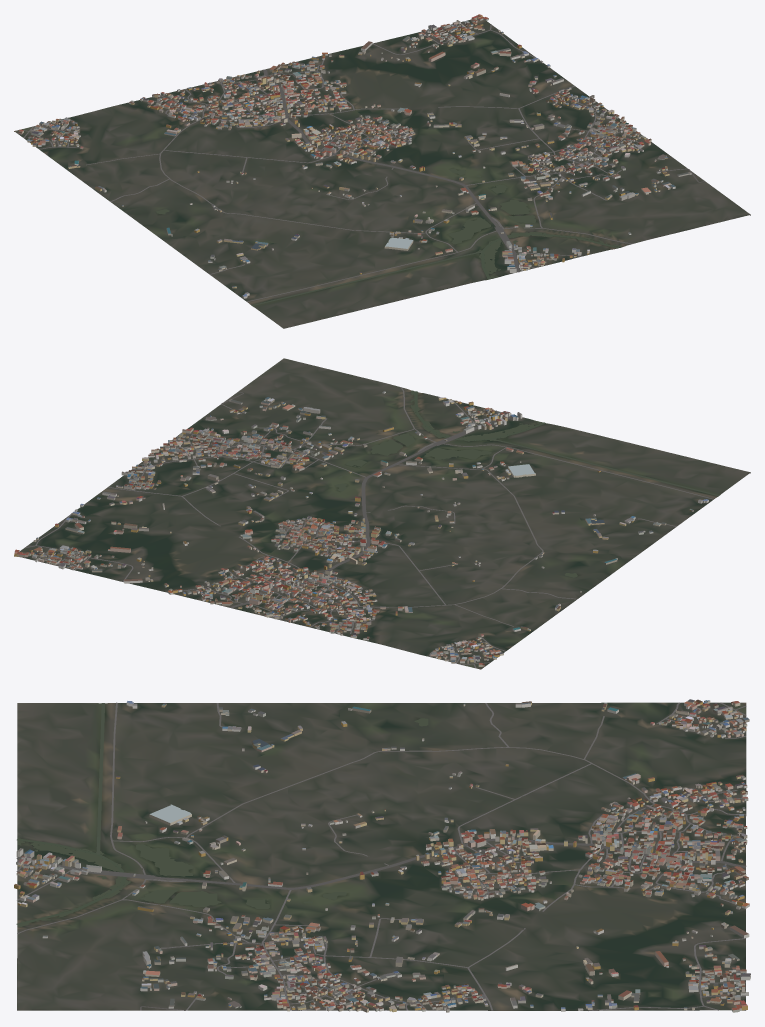
3 renders of one model, top to bottom at view 1: azimuth 30°, elevation 25°; view 2: azimuth 150°, elevation 25°; view 3: azimuth 270°, elevation 25°, orthographic. The views are drawn at different scales.
Parts seen in each view (by area): view 1: ground, buildings, roads, water; view 2: ground, buildings, roads, water; view 3: ground, buildings, roads, water.
Part boxes in pixels (x1=…): ground: x1=14, y1=19, x2=750, y2=328; buildings: x1=18, y1=14, x2=691, y2=298; roads: x1=19, y1=23, x2=704, y2=301; water: x1=156, y1=168, x2=621, y2=305; ground: x1=14, y1=358, x2=750, y2=669; buildings: x1=14, y1=391, x2=708, y2=666; roads: x1=24, y1=387, x2=713, y2=668; water: x1=335, y1=390, x2=719, y2=577; ground: x1=17, y1=702, x2=746, y2=1010; buildings: x1=14, y1=699, x2=750, y2=1012; roads: x1=16, y1=702, x2=746, y2=1010; water: x1=16, y1=703, x2=428, y2=926.
Size of the model in its own units: 1417 by 25.17 by 1417.
